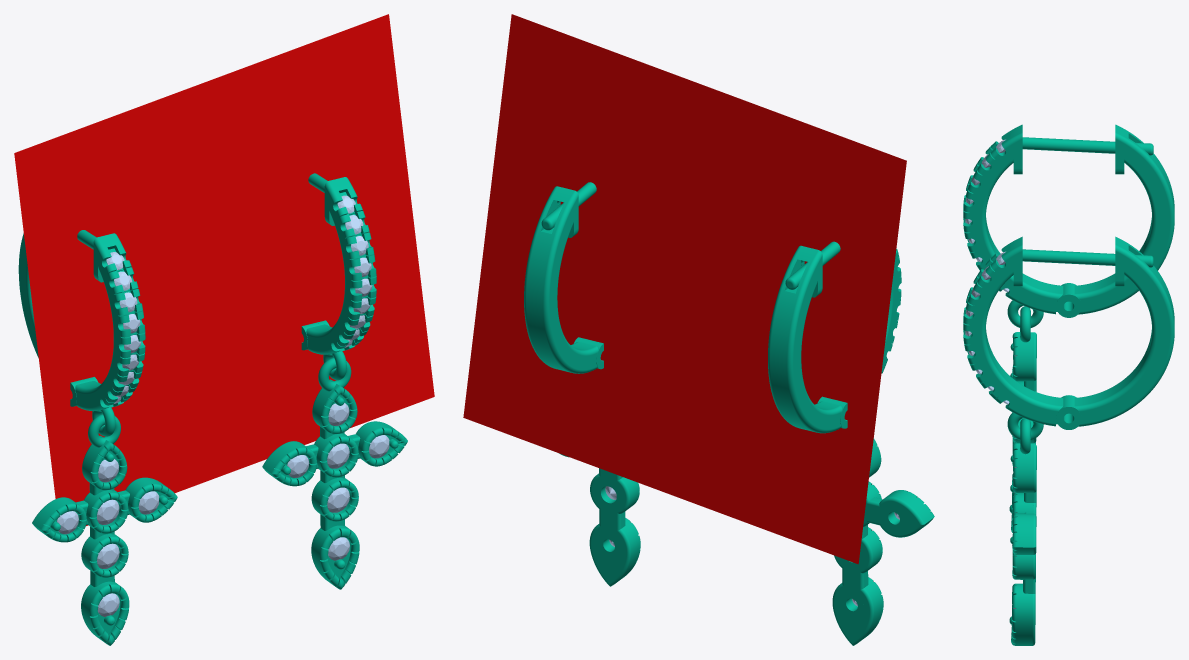
3 views of the same model, side by side, from view 1: azimuth 30°, elevation 25°; view 2: azimuth 150°, elevation 25°; view 3: azimuth 270°, elevation 25° (orthographic). The views are drawn at different scales.
Visible parts, largest first — view 1: BALI0003(FRONT).3dm, Bezel (×4); view 2: BALI0003(FRONT).3dm, Bezel (×2); view 3: BALI0003(FRONT).3dm, Bezel (×2).
Part boxes in pixels (left/top/right/bottom): BALI0003(FRONT).3dm: left=14, top=14, right=434, bottom=645; Bezel (×4): left=81, top=434, right=358, bottom=577; BALI0003(FRONT).3dm: left=463, top=14, right=934, bottom=645; Bezel (×2): left=590, top=473, right=882, bottom=573; BALI0003(FRONT).3dm: left=963, top=124, right=1174, bottom=645; Bezel (×2): left=1012, top=493, right=1036, bottom=579.
Size of what is drawn, in the model's own units: 2.97 by 3.63 by 1.3.
